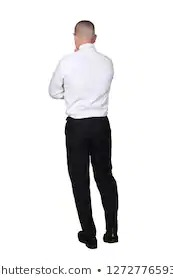F_dress pants: (62, 111, 122, 233)
F_shirt: (47, 44, 120, 117)
